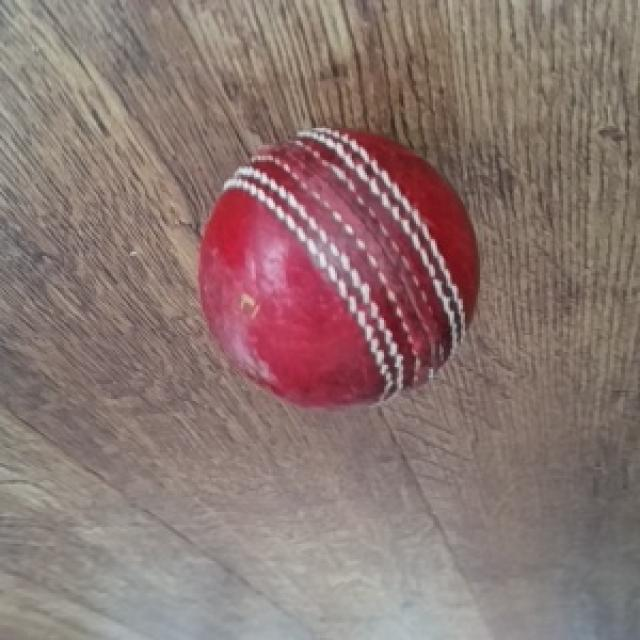ball: (196, 128, 480, 412)
